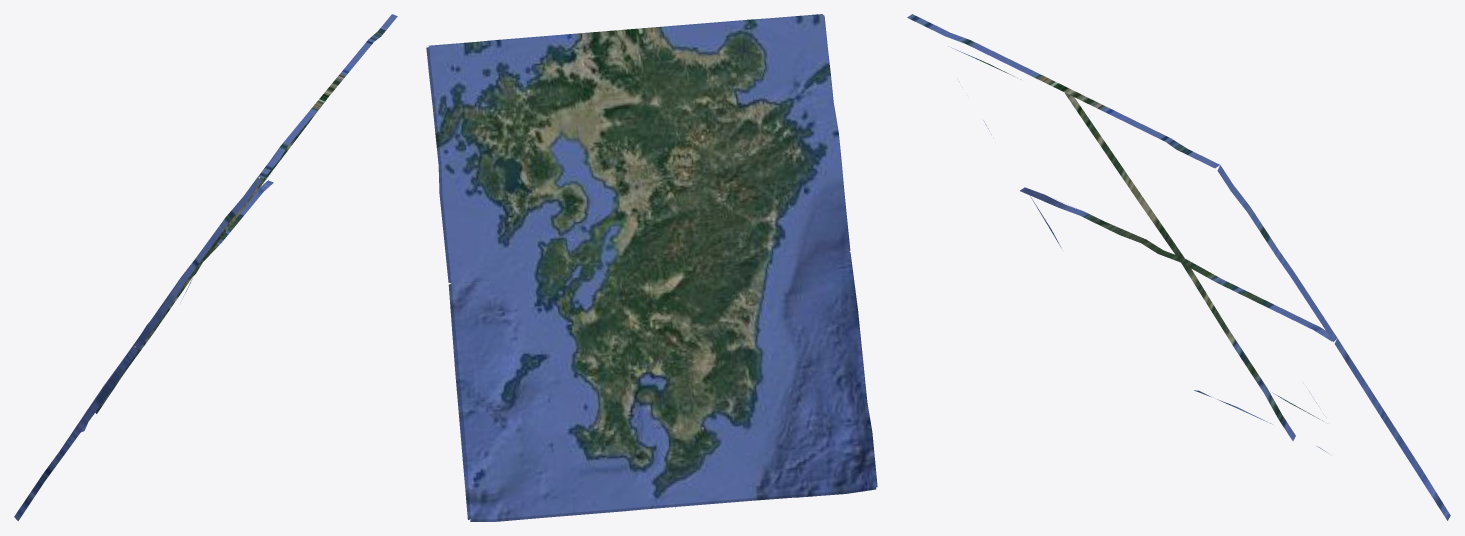
The picture shows the model from 3 angles, left to right: view 1: azimuth 30°, elevation 25°; view 2: azimuth 150°, elevation 25°; view 3: azimuth 270°, elevation 25°; orthographic projection. The views are drawn at different scales.
Bounding box in the file's own units: 312400 × 270030 × 302880.
Materials: 1 (1 with a texture image).
